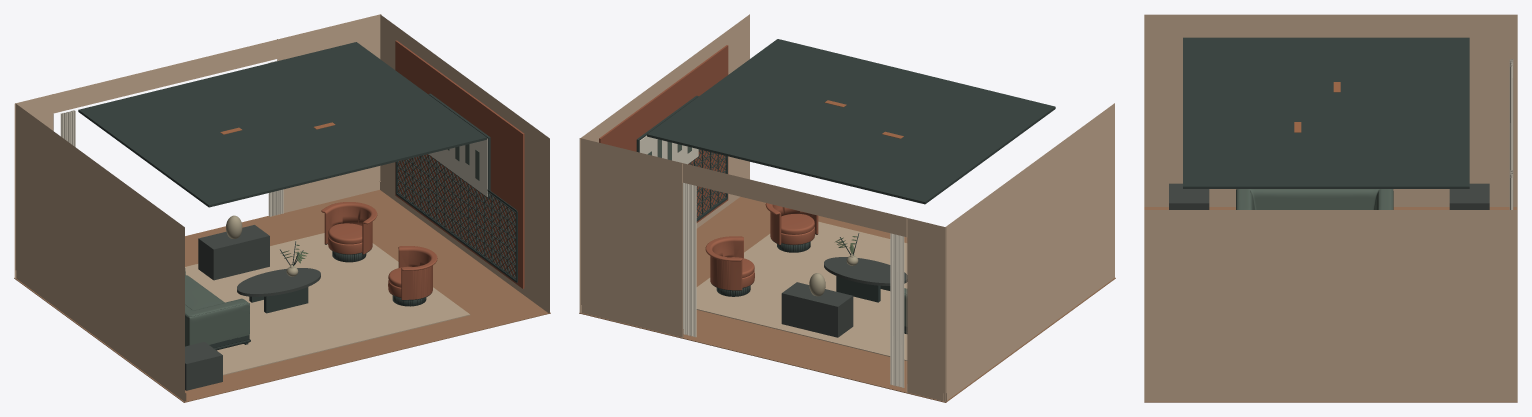
Rendered from great-3.glb.
3 renders of one model, left to right at view 1: azimuth 30°, elevation 25°; view 2: azimuth 150°, elevation 25°; view 3: azimuth 270°, elevation 25°, orthographic. The views are drawn at different scales.
Parts seen in each view (by area): view 1: DESIGN | great removable wall finish, DESIGN | Social ceiling field, DESIGN | great floor finish, DESIGN | Great room primary ground, DESIGN | Clay conversation wall, DESIGN | Kumiko | Great room low craft datum, DESIGN | Great room sofa facing conversation, DESIGN | Object discussion plinth, DESIGN | Required Bellustar swivel chair two, DESIGN | Required Bellustar swivel chair one, DESIGN | Great room conversation table top, DESIGN | Textile artwork.001 (+4 smaller); view 2: DESIGN | great removable wall finish, DESIGN | Social ceiling field, DESIGN | great floor finish, DESIGN | Great room primary ground, DESIGN | Clay conversation wall, DESIGN | Object discussion plinth, DESIGN | Required Bellustar swivel chair two, DESIGN | Great room soft window edge, DESIGN | Great room soft window edge.001, DESIGN | Required Bellustar swivel chair one, DESIGN | Great room conversation table top, DESIGN | Kumiko | Great room low craft datum (+2 smaller); view 3: DESIGN | great removable wall finish, DESIGN | Social ceiling field, DESIGN | Great room sofa facing conversation, DESIGN | great floor finish, DESIGN | Great room low stone display.001, DESIGN | Great room low stone display, DESIGN | Great room soft window edge.
Boxes of the visible parts, left/top/right/bottom form: DESIGN | great removable wall finish: left=14, top=14, right=549, bottom=401; DESIGN | Social ceiling field: left=78, top=42, right=486, bottom=207; DESIGN | great floor finish: left=14, top=190, right=550, bottom=402; DESIGN | Great room primary ground: left=185, top=233, right=470, bottom=375; DESIGN | Clay conversation wall: left=395, top=40, right=524, bottom=288; DESIGN | Kumiko | Great room low craft datum: left=395, top=154, right=517, bottom=282; DESIGN | Great room sofa facing conversation: left=185, top=268, right=250, bottom=350; DESIGN | Object discussion plinth: left=198, top=225, right=269, bottom=280; DESIGN | Required Bellustar swivel chair two: left=321, top=202, right=377, bottom=262; DESIGN | Required Bellustar swivel chair one: left=388, top=246, right=437, bottom=306; DESIGN | Great room conversation table top: left=237, top=268, right=320, bottom=296; DESIGN | Textile artwork.001: left=428, top=138, right=487, bottom=196; DESIGN | great removable wall finish: left=579, top=14, right=1114, bottom=401; DESIGN | Social ceiling field: left=647, top=39, right=1055, bottom=204; DESIGN | great floor finish: left=579, top=196, right=1115, bottom=402; DESIGN | Great room primary ground: left=696, top=221, right=907, bottom=360; DESIGN | Clay conversation wall: left=599, top=45, right=728, bottom=222; DESIGN | Object discussion plinth: left=781, top=282, right=853, bottom=337; DESIGN | Required Bellustar swivel chair two: left=705, top=236, right=754, bottom=296; DESIGN | Great room soft window edge: left=890, top=233, right=904, bottom=387; DESIGN | Great room soft window edge.001: left=683, top=182, right=696, bottom=337; DESIGN | Required Bellustar swivel chair one: left=765, top=203, right=818, bottom=252; DESIGN | Great room conversation table top: left=824, top=257, right=907, bottom=285; DESIGN | Kumiko | Great room low craft datum: left=689, top=149, right=727, bottom=221; DESIGN | great removable wall finish: left=1144, top=14, right=1517, bottom=401; DESIGN | Social ceiling field: left=1183, top=37, right=1469, bottom=188; DESIGN | Great room sofa facing conversation: left=1236, top=189, right=1393, bottom=209; DESIGN | great floor finish: left=1144, top=207, right=1517, bottom=402; DESIGN | Great room low stone display.001: left=1449, top=183, right=1489, bottom=209; DESIGN | Great room low stone display: left=1169, top=183, right=1209, bottom=209; DESIGN | Great room soft window edge: left=1509, top=59, right=1513, bottom=170.
Size of the model in its own units: 6 by 2.74 by 4.82.
